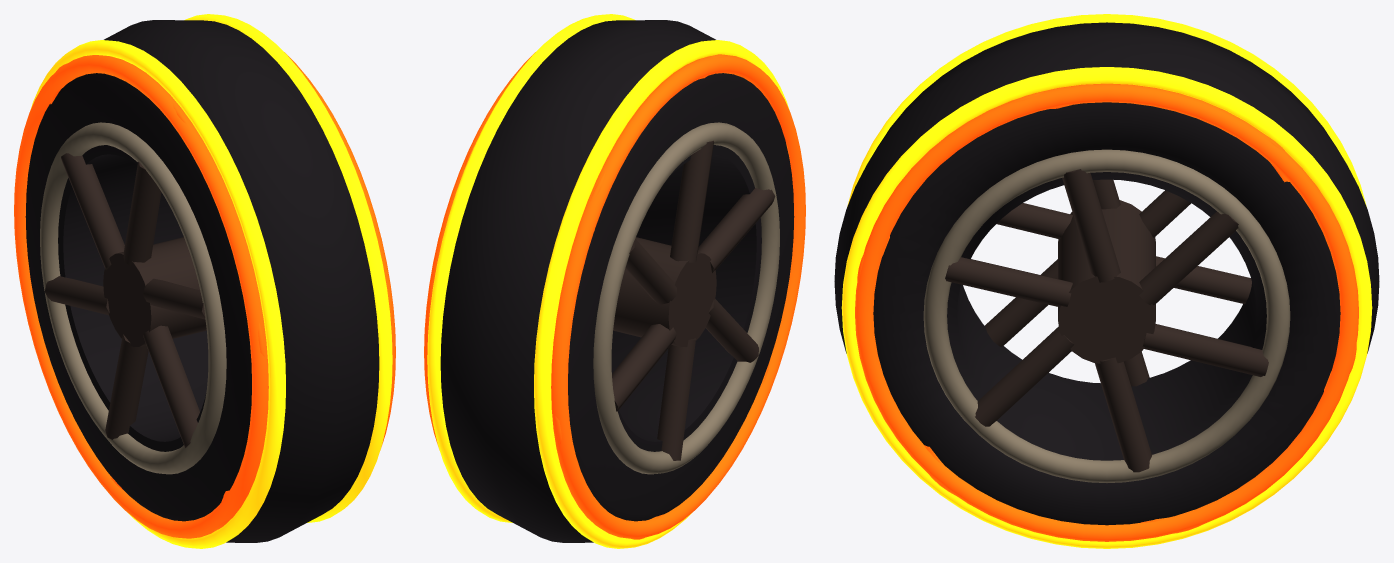
File: A038-FLAME_MOTO_Wheel_R_Part_01_0907_f925e2d8.glb
The picture shows the model from 3 angles, left to right: view 1: azimuth 30°, elevation 25°; view 2: azimuth 150°, elevation 25°; view 3: azimuth 270°, elevation 25°; orthographic projection.
Parts seen in each view (by area): view 1: FLAME_MOTO_Wheel_R_Part_01; view 2: FLAME_MOTO_Wheel_R_Part_01; view 3: FLAME_MOTO_Wheel_R_Part_01.
Part boxes in pixels (left/top/right/bottom): FLAME_MOTO_Wheel_R_Part_01: left=14, top=14, right=395, bottom=548; FLAME_MOTO_Wheel_R_Part_01: left=424, top=14, right=805, bottom=548; FLAME_MOTO_Wheel_R_Part_01: left=834, top=14, right=1379, bottom=548.
Size of the model in its own units: 0.2088 by 0.5916 by 0.5916.
